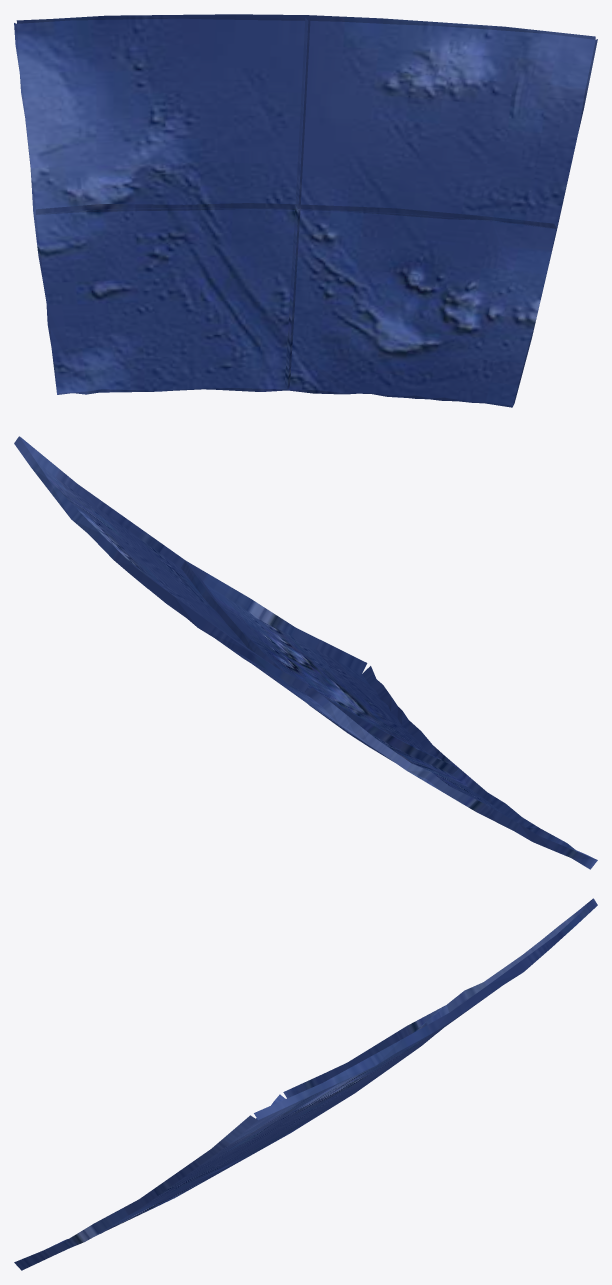
3 views of the same model, one above another, from view 1: azimuth 30°, elevation 25°; view 2: azimuth 150°, elevation 25°; view 3: azimuth 270°, elevation 25° (orthographic). The views are drawn at different scales.
Size of the model in its own units: 1854219 by 823071 by 1685986.
Materials: 1 (1 with a texture image).
